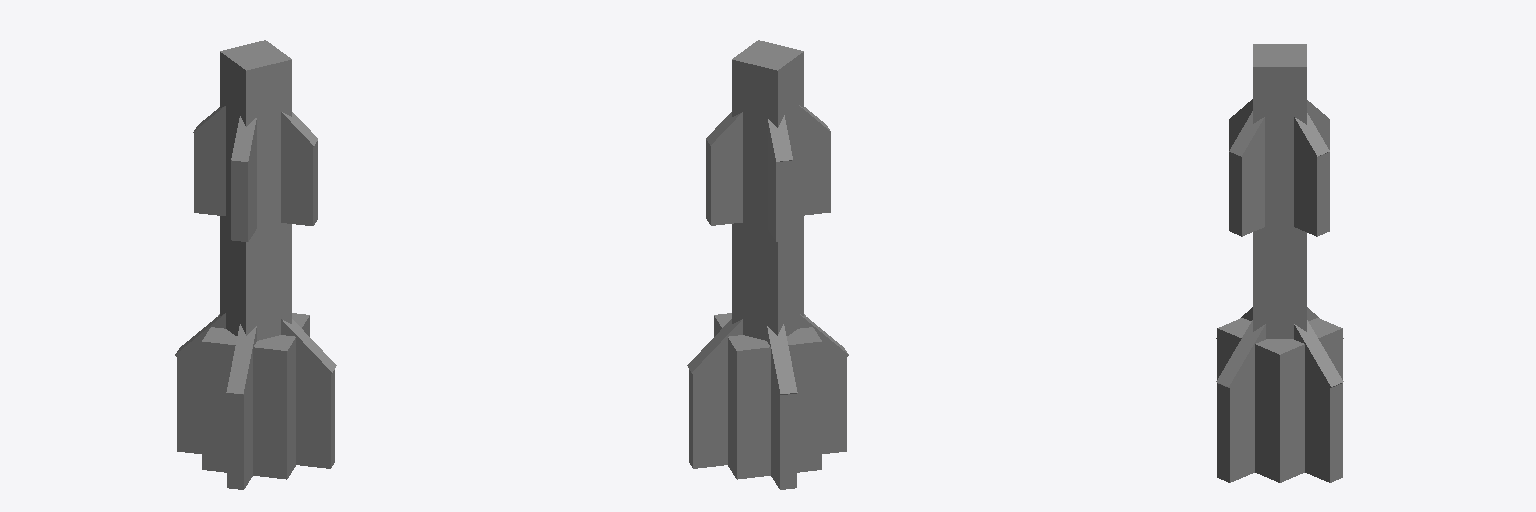
File: missile_base_t1.obj
3 renders of one model, left to right at view 1: azimuth 30°, elevation 25°; view 2: azimuth 150°, elevation 25°; view 3: azimuth 270°, elevation 25°, orthographic.
Visible parts, largest first — view 1: group_1, group_0, Component_1, Component_4, Component_2, Component_5; view 2: group_1, group_0, Component_1, Component_4, Component_2, Component_5; view 3: group_1, group_0, Component_1, Component_4, Component_2, Component_5.
Boxes of the visible parts, x1=… form: group_1: x1=220, y1=40, x2=291, y2=340; group_0: x1=202, y1=313, x2=309, y2=479; Component_1: x1=177, y1=355, x2=334, y2=489; Component_4: x1=194, y1=133, x2=317, y2=241; Component_2: x1=175, y1=313, x2=336, y2=411; Component_5: x1=193, y1=106, x2=317, y2=172; group_1: x1=732, y1=40, x2=803, y2=340; group_0: x1=714, y1=313, x2=821, y2=479; Component_1: x1=689, y1=358, x2=846, y2=489; Component_4: x1=706, y1=133, x2=830, y2=241; Component_2: x1=687, y1=313, x2=848, y2=401; Component_5: x1=706, y1=105, x2=830, y2=171; group_1: x1=1253, y1=44, x2=1306, y2=338; group_0: x1=1217, y1=318, x2=1342, y2=482; Component_1: x1=1217, y1=382, x2=1342, y2=482; Component_4: x1=1229, y1=120, x2=1329, y2=236; Component_2: x1=1216, y1=307, x2=1343, y2=409; Component_5: x1=1229, y1=99, x2=1329, y2=176.
Size of the model in its own units: 90.8 by 315 by 90.8.